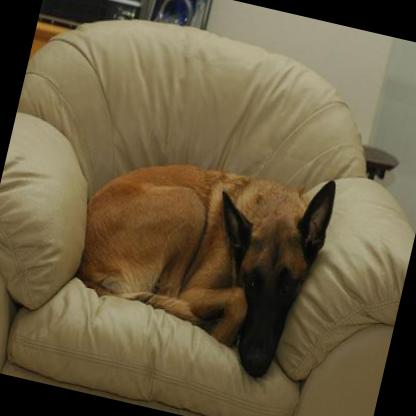malinois: (58, 128, 338, 384)
